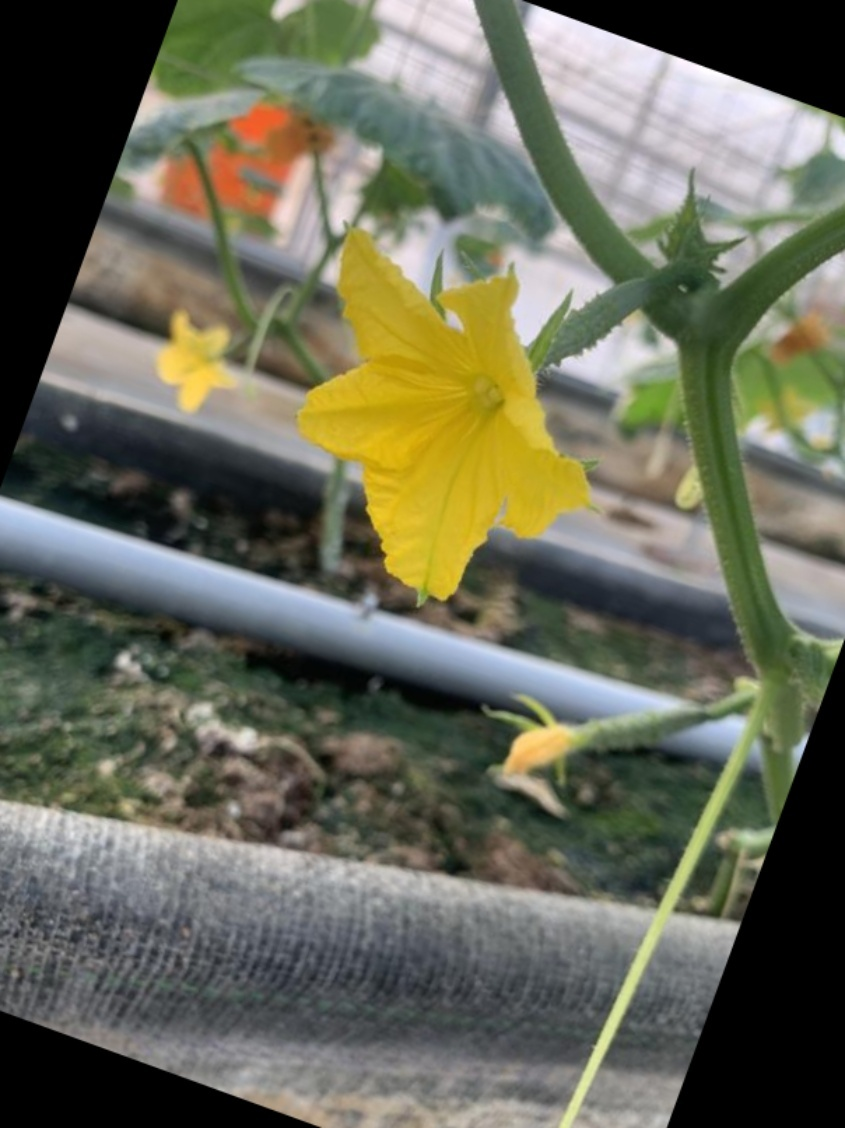flowering: (250, 214, 701, 613)
